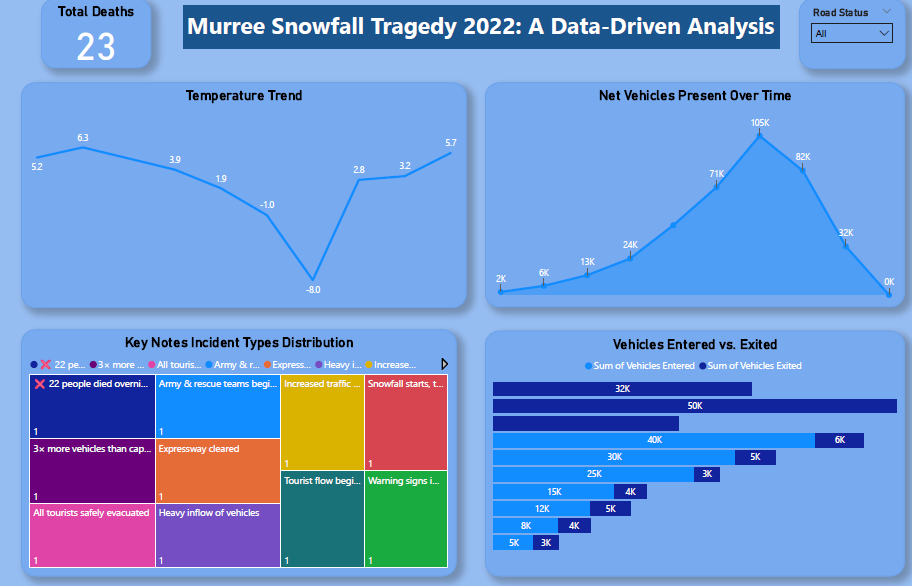

The page's visual inventory and layout, read from the dashboard file:
{"tool":"powerbi","page":{"name":"Page 1","canvas":[1280,830],"ordinal":0},"visuals":[{"type":"textbox","box":[257.1,10,835.7,60],"z":0},{"type":"barChart","title":"Vehicles Entered vs. Exited","fields":{"Category":["Sheet1.Date.Variation.Date Hierarchy.Day"],"Y":["Sum(Sheet1.Vehicles Entered)","Sum(Sheet1.Vehicles Exited)"]},"box":[680,466,588,344],"z":1000},{"type":"areaChart","title":"Net Vehicles Present Over Time","fields":{"Category":["Sheet1.Date.Variation.Date Hierarchy.Day"],"Y":["Sum(Sheet1.Net Vehicles Present)"]},"box":[680,118.3,588.3,315],"z":2000},{"type":"lineChart","title":"Temperature Trend","fields":{"Y":["Avg(Sheet1.Temp (°C))"],"Category":["Sheet1.Date.Variation.Date Hierarchy.Day"]},"box":[30,118,624,316],"z":3000},{"type":"card","title":"Total Deaths","fields":{"Values":["Sum(Sheet1.Total Deaths)"]},"box":[58,0,154,98],"z":4000},{"type":"treemap","title":" Key Notes Incident Types Distribution","fields":{"Group":["Sheet1.Key Notes"],"Values":["CountNonNull(Sheet1.Key Notes)"]},"box":[30,464,610,346],"z":5000},{"type":"slicer","title":"Road Status","fields":{"Values":["Sheet1.Road Status"]},"box":[1120,0,148.6,98.6],"z":6000}]}

Visuals, with their boxes in screenshot pixels (x1, y1, x2, y2), scaled from the page's 1280x830 canvas onto the 912x586 screenshot:
textbox: select_region(183, 7, 779, 49)
"Vehicles Entered vs. Exited" barChart: select_region(484, 329, 903, 572)
"Net Vehicles Present Over Time" areaChart: select_region(484, 84, 904, 306)
"Temperature Trend" lineChart: select_region(21, 83, 466, 306)
"Total Deaths" card: select_region(41, 0, 151, 69)
" Key Notes Incident Types Distribution" treemap: select_region(21, 328, 456, 572)
"Road Status" slicer: select_region(798, 0, 904, 70)
